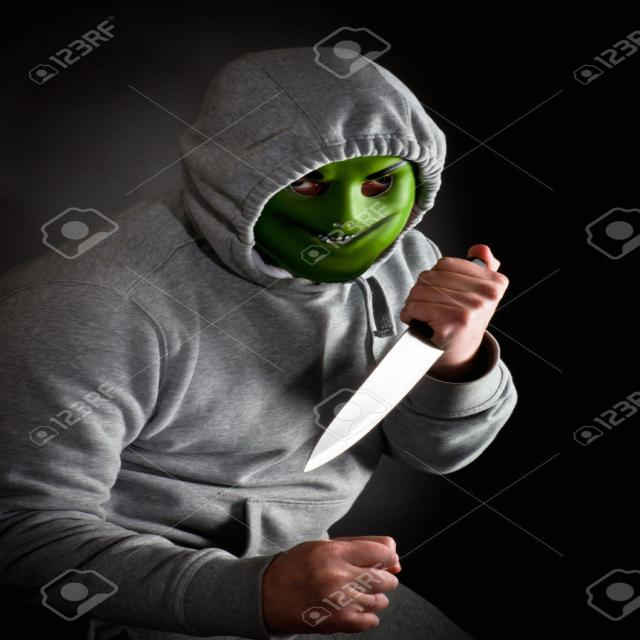knife: (307, 315, 442, 481)
